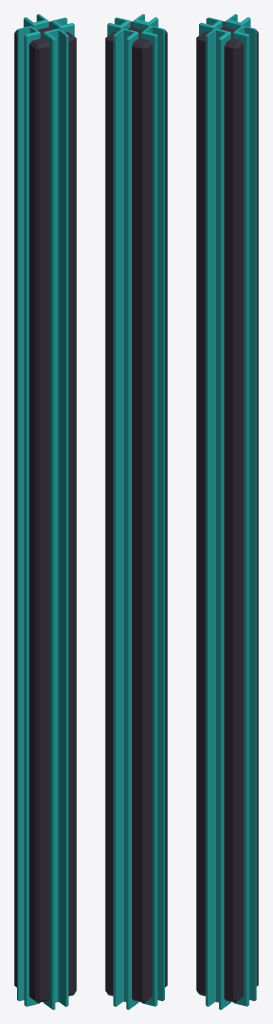
The model's file is wall gen 4.fbx.
3 renders of one model, left to right at view 1: azimuth 30°, elevation 25°; view 2: azimuth 150°, elevation 25°; view 3: azimuth 330°, elevation 25°, orthographic.
Visible parts, largest first — view 1: polySurface1499; view 2: polySurface1499; view 3: polySurface1499.
Part boxes in pixels (<box>): polySurface1499: <box>14,14,76,1009</box>; polySurface1499: <box>105,14,167,1009</box>; polySurface1499: <box>196,14,258,1009</box>.
Size of the model in its own units: 32.72 by 618 by 33.95.
